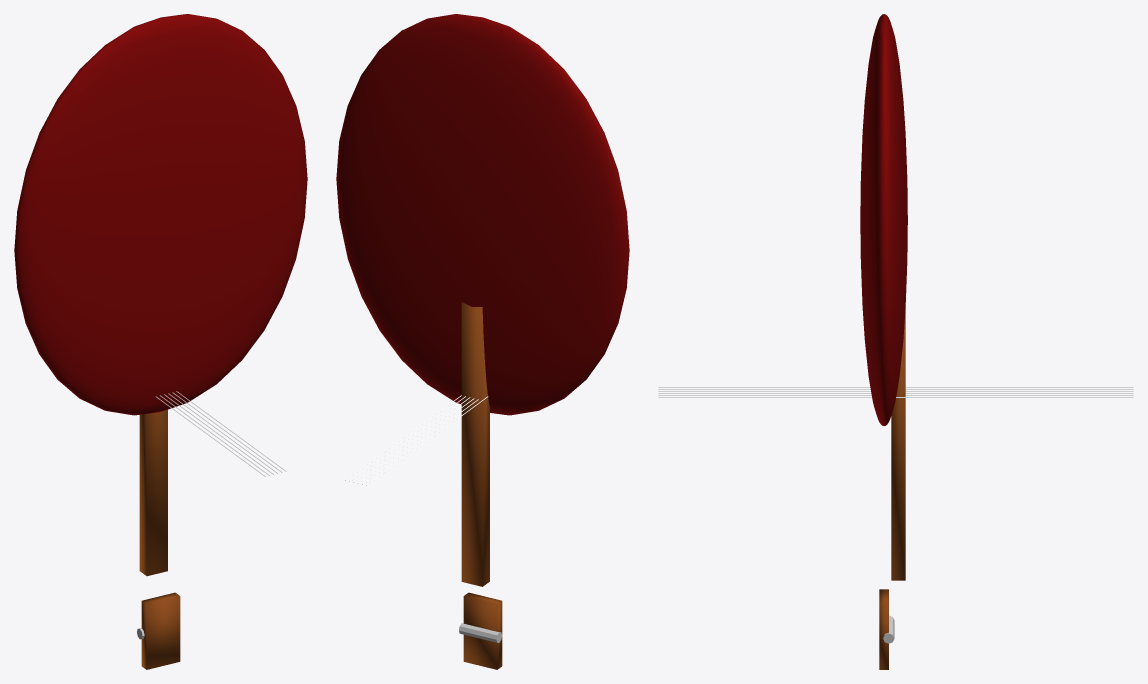
Rendered from stratocaster.obj.
The picture shows the model from 3 angles, left to right: view 1: azimuth 30°, elevation 25°; view 2: azimuth 150°, elevation 25°; view 3: azimuth 270°, elevation 25°; orthographic projection.
Visible parts, largest first — view 1: stratocaster_Sphere; view 2: stratocaster_Sphere; view 3: stratocaster_Sphere.
Boxes of the visible parts, x1,y1,x2,y2 form: stratocaster_Sphere: (14,14,307,669); stratocaster_Sphere: (336,14,629,669); stratocaster_Sphere: (658,14,1133,669).
Size of the model in its own units: 0.7 by 1.47 by 1.
